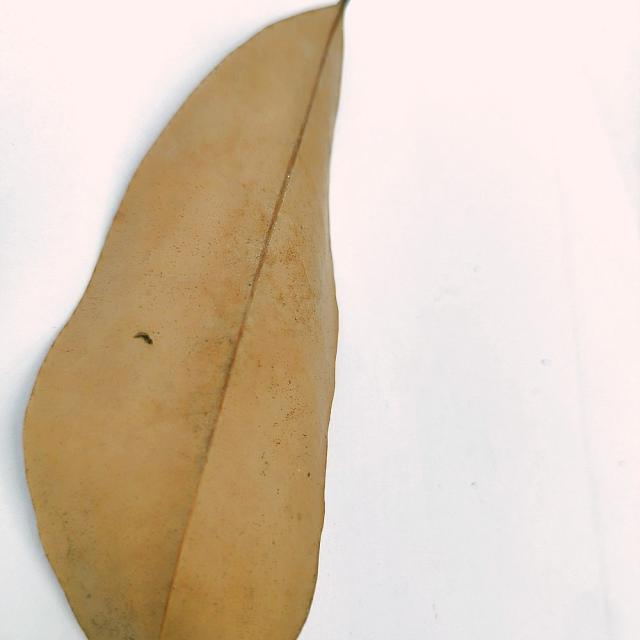Dry_Leaf-Lychee: (21, 0, 349, 639)
